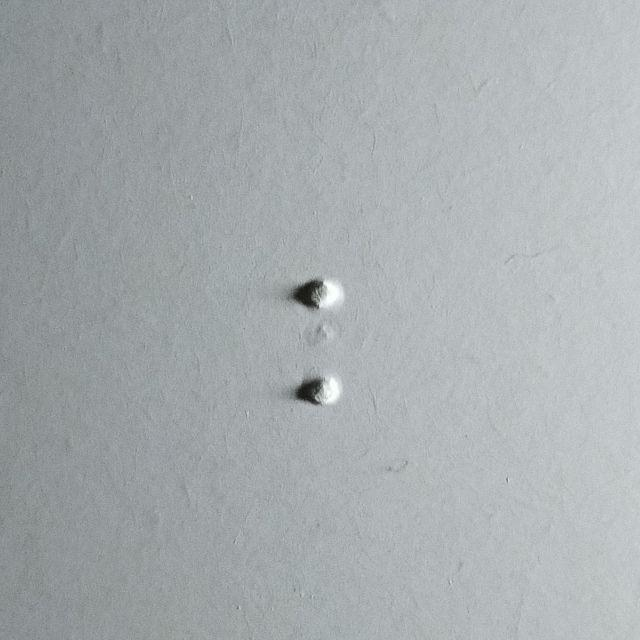kaya: (299, 277, 384, 404)
